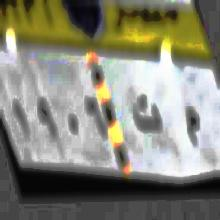0: (66, 105, 83, 141)
1: (13, 90, 32, 147)
6: (86, 92, 108, 146)
9: (38, 83, 62, 150)
meem: (178, 98, 206, 157)
taa: (131, 77, 160, 149)
